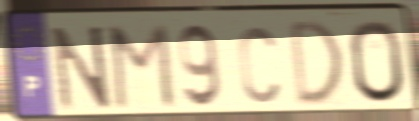9: (176, 21, 223, 110)
C: (235, 22, 282, 106)
D: (287, 16, 345, 110)
M: (108, 21, 178, 112)
N: (49, 22, 115, 113)
O: (346, 17, 409, 106)
